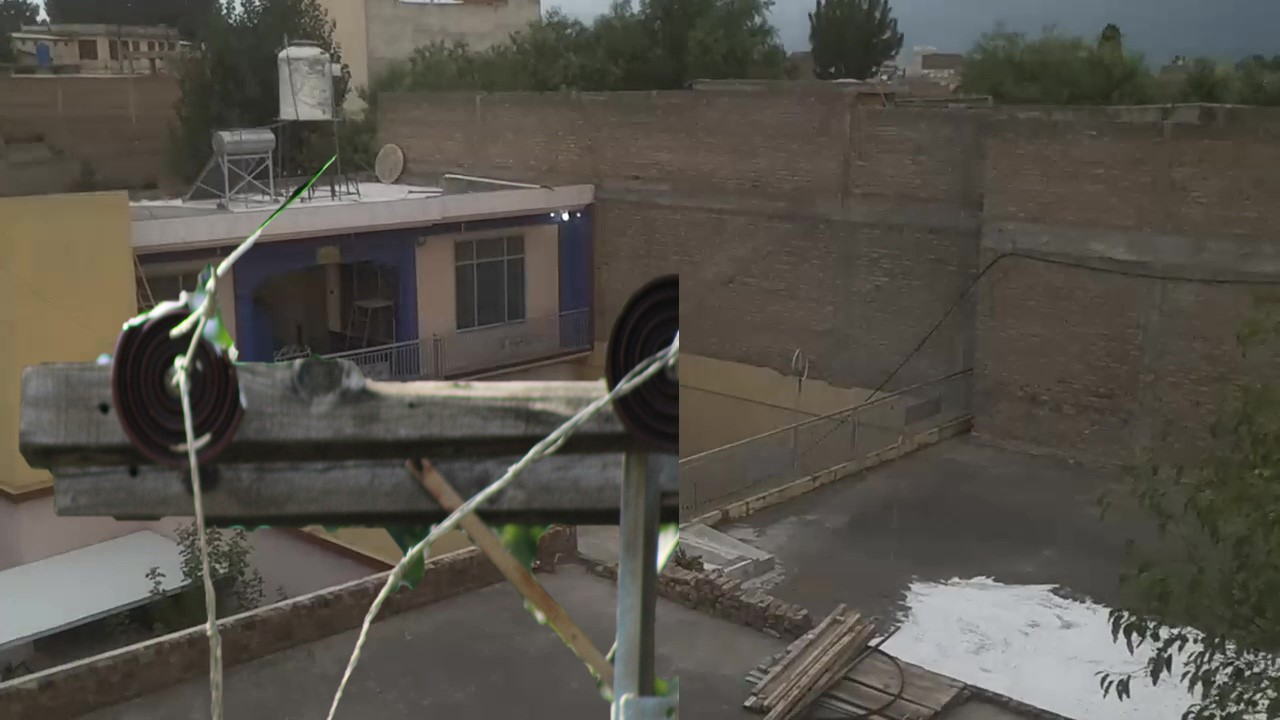defect_disc: (109, 301, 253, 467)
